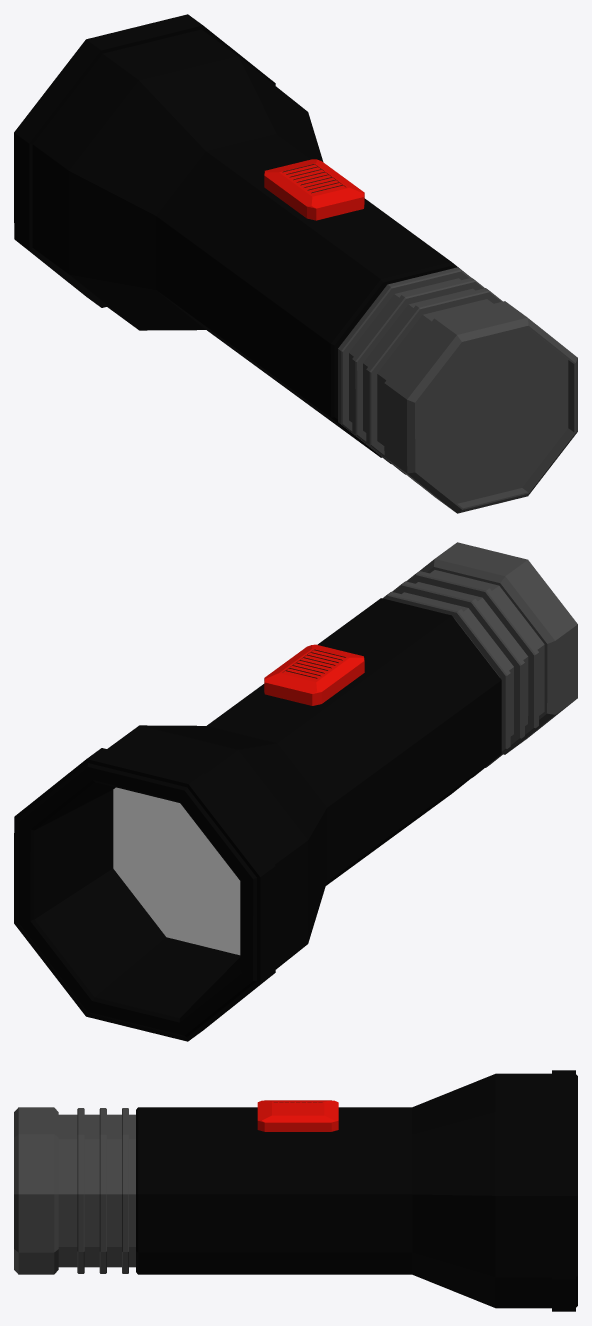
Rendered from low_poly_flashlight.glb.
3 renders of one model, top to bottom at view 1: azimuth 30°, elevation 25°; view 2: azimuth 150°, elevation 25°; view 3: azimuth 270°, elevation 25°, orthographic. The views are drawn at different scales.
Visible parts, largest first — view 1: Base_7, Back_0, Button_2; view 2: Base_7, Back_0, Glass_5, Button_2; view 3: Base_7, Back_0, Button_2.
Boxes of the visible parts, box(x1,y1,x2,y2) form: Base_7: box(14, 14, 470, 457); Back_0: box(338, 267, 577, 513); Button_2: box(264, 159, 364, 220); Base_7: box(14, 598, 501, 1041); Back_0: box(382, 542, 577, 777); Glass_5: box(113, 787, 240, 955); Button_2: box(264, 644, 364, 705); Base_7: box(136, 1070, 577, 1311); Back_0: box(14, 1107, 135, 1274); Button_2: box(257, 1100, 338, 1131).
Size of the model in its own units: 0.9323 by 0.9323 by 2.36.
